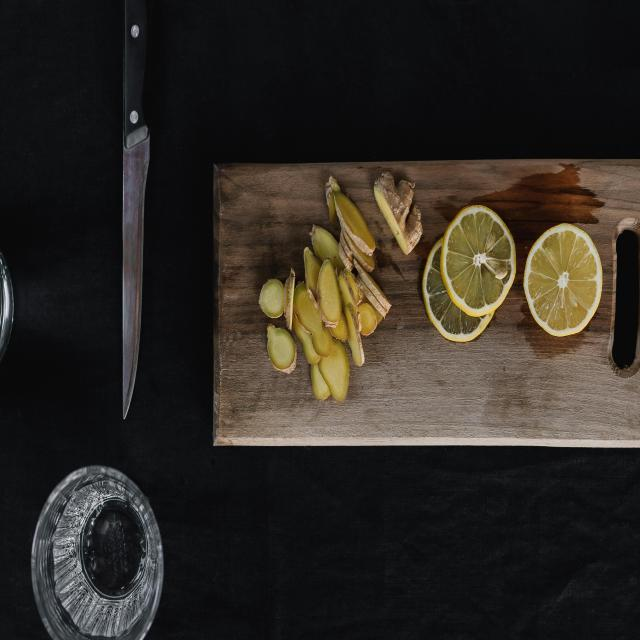knife: (121, 3, 152, 422)
